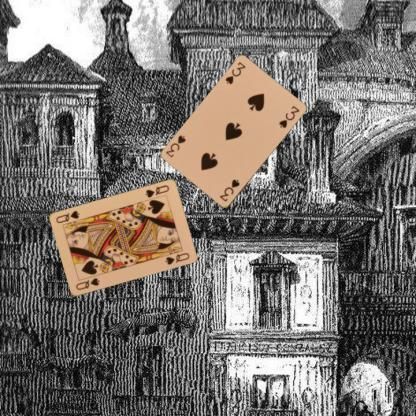3s: (222, 60, 247, 86), (217, 177, 241, 203)
Qs: (143, 182, 170, 199), (74, 276, 100, 291)
